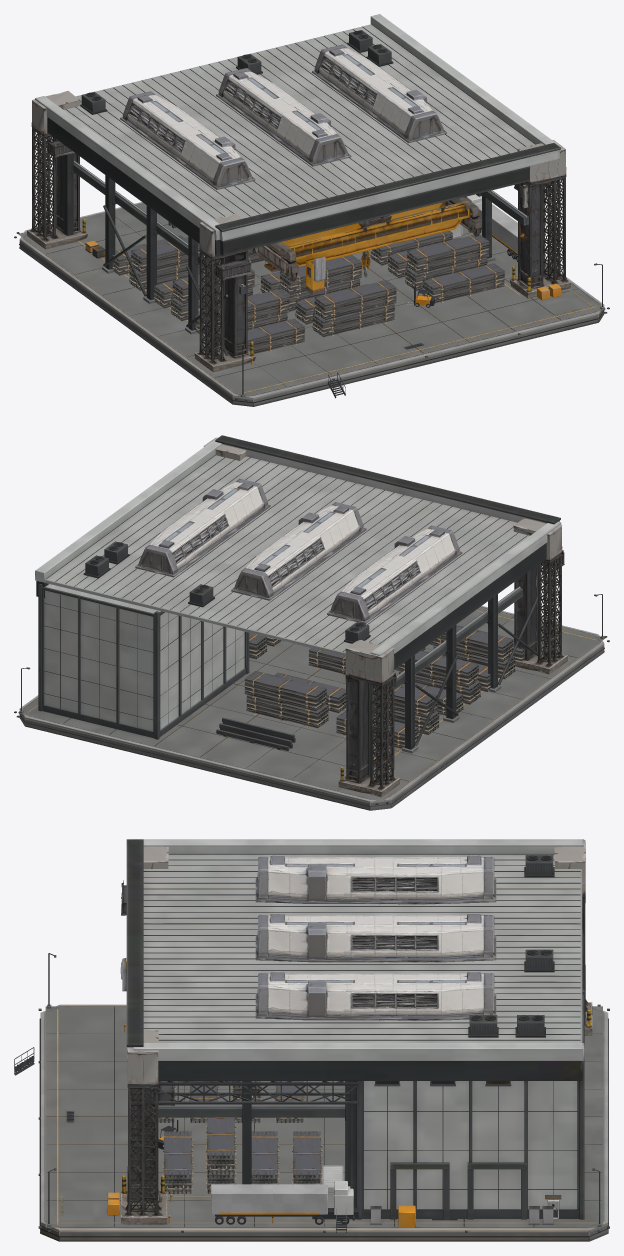
File: steel_depot.lite.glb
The picture shows the model from 3 angles, top to bottom: view 1: azimuth 30°, elevation 25°; view 2: azimuth 150°, elevation 25°; view 3: azimuth 270°, elevation 25°; orthographic projection. The views are drawn at different scales.
Visible parts, largest first — view 1: hull, parts_colony-beamStack, parts_colony-portalColumn, parts_colony-roofMonitor, parts_colony-overheadCrane, parts_yard-truck; view 2: hull, parts_colony-roofMonitor, parts_colony-portalColumn, parts_colony-beamStack; view 3: hull, parts_colony-roofMonitor, parts_colony-portalColumn, parts_colony-beamStack, parts_yard-truck, parts_container.
Part boxes in pixels (left/top/right/bottom): hull: left=14, top=14, right=609, bottom=406; parts_colony-beamStack: left=112, top=230, right=504, bottom=354; parts_colony-portalColumn: left=27, top=91, right=570, bottom=372; parts_colony-roofMonitor: left=120, top=44, right=446, bottom=189; parts_colony-overheadCrane: left=251, top=197, right=482, bottom=295; parts_yard-truck: left=466, top=194, right=517, bottom=261; hull: left=14, top=435, right=609, bottom=810; parts_colony-roofMonitor: left=135, top=478, right=462, bottom=624; parts_colony-portalColumn: left=203, top=437, right=567, bottom=797; parts_colony-beamStack: left=244, top=625, right=524, bottom=749; hull: left=14, top=839, right=609, bottom=1241; parts_colony-roofMonitor: left=255, top=855, right=496, bottom=1020; parts_colony-portalColumn: left=121, top=840, right=592, bottom=1224; parts_colony-beamStack: left=158, top=1081, right=322, bottom=1193; parts_yard-truck: left=211, top=1181, right=358, bottom=1224; parts_container: left=322, top=1165, right=343, bottom=1207.
Bounding box in the file's own units: 62.68 × 26.63 × 69.28.
9 materials, 9 textured.
